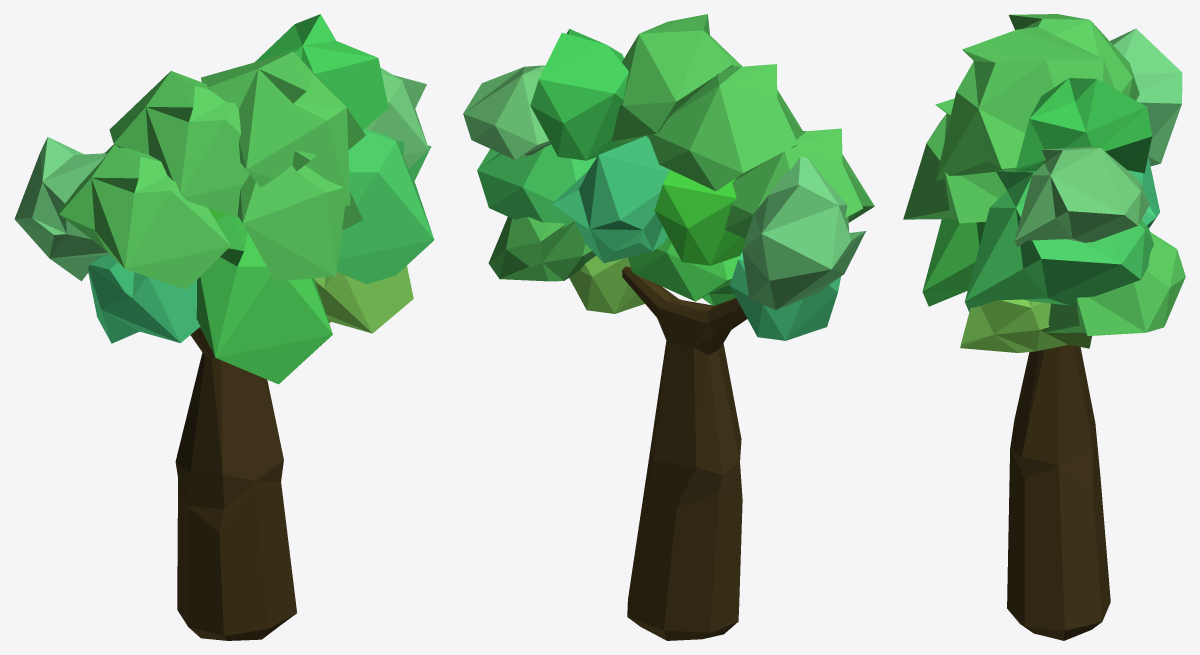
Rendered from polytree_2.fbx.
3 views of the same model, side by side, from view 1: azimuth 30°, elevation 25°; view 2: azimuth 150°, elevation 25°; view 3: azimuth 270°, elevation 25° (orthographic). The views are drawn at different scales.
Parts seen in each view (by area): view 1: Cube, Icosphere.010, Icosphere.003, Icosphere.012, Icosphere.011, Icosphere.009, Icosphere.002, Icosphere.004, Icosphere.007, Icosphere.006, Icosphere.005, Icosphere.001; view 2: Cube, Icosphere.011, Icosphere.004, Icosphere.006, Icosphere.013, Icosphere.012, Icosphere.002, Icosphere.010, Icosphere.008, Icosphere.001, Icosphere, Icosphere.003 (+2 smaller); view 3: Cube, Icosphere.012, Icosphere.002, Icosphere.001, Icosphere.006, Icosphere, Icosphere.009, Icosphere.005, Icosphere.004, Icosphere.003, Icosphere.011, Icosphere.013.
Part boxes in pixels (box(x1,y1,x2,y2)): Cube: box(175, 327, 296, 640); Icosphere.010: box(58, 144, 230, 289); Icosphere.003: box(196, 214, 332, 384); Icosphere.012: box(201, 51, 365, 206); Icosphere.011: box(109, 71, 249, 217); Icosphere.009: box(237, 151, 362, 281); Icosphere.002: box(336, 128, 434, 284); Icosphere.004: box(14, 137, 109, 281); Icosphere.007: box(88, 254, 200, 343); Icosphere.006: box(255, 14, 388, 129); Icosphere.005: box(314, 266, 413, 333); Icosphere.001: box(365, 67, 428, 168); Cube: box(622, 266, 747, 640); Icosphere.011: box(648, 64, 802, 191); Icosphere.004: box(742, 156, 865, 310); Icosphere.006: box(530, 29, 628, 160); Icosphere.013: box(552, 136, 669, 263); Icosphere.012: box(611, 14, 742, 144); Icosphere.002: box(477, 144, 596, 228); Icosphere.010: box(725, 128, 874, 238); Icosphere.008: box(654, 170, 745, 265); Icosphere.001: box(463, 65, 550, 159); Icosphere: box(488, 216, 595, 281); Icosphere.003: box(628, 236, 739, 305); Cube: box(1007, 345, 1110, 640); Icosphere.012: box(935, 27, 1114, 180); Icosphere.002: box(964, 170, 1154, 311); Icosphere.001: box(1014, 147, 1149, 246); Icosphere.006: box(1015, 78, 1152, 173); Icosphere: box(1045, 232, 1185, 335); Icosphere.009: box(903, 98, 1006, 223); Icosphere.005: box(960, 299, 1091, 352); Icosphere.004: box(1110, 28, 1182, 166); Icosphere.003: box(922, 219, 985, 306); Icosphere.011: box(1009, 14, 1139, 100); Icosphere.013: box(1128, 156, 1159, 228).
Size of the model in its own units: 937 by 1365 by 584.
